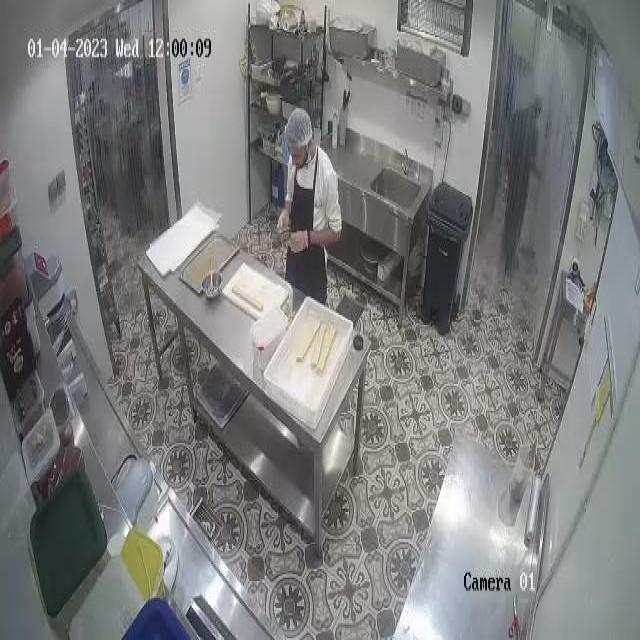hairnet: (286, 105, 311, 150)
